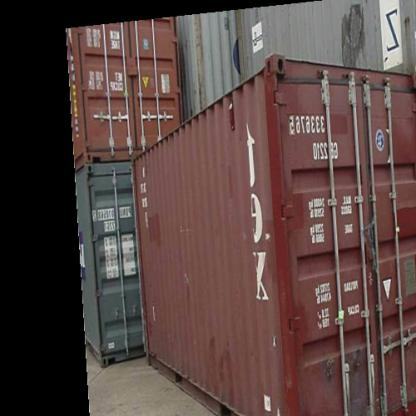Damage: (264, 328, 284, 354), (178, 268, 199, 284), (148, 304, 162, 328), (174, 221, 192, 239)
